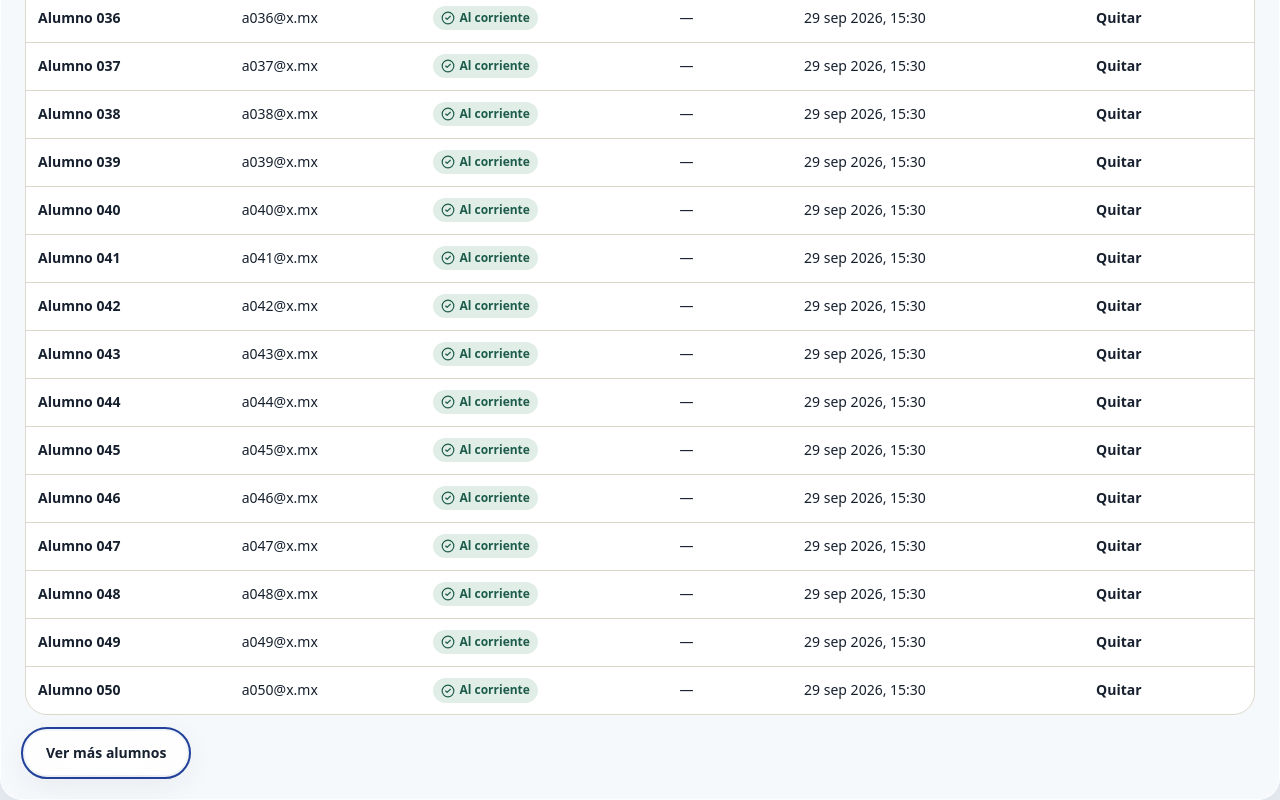
ataque CLASES-b r5: T-27 y la primera carga › alumnos: si la página siguiente falla, el foco va exactamente al encabezado «Alumnos»
(page scrolled)
What coordinates should you click on to do the following:
click the button "Ver más alumnos"
I would click on:
 (106, 753)
Its box is [25,731,187,775].
(page scrolled)
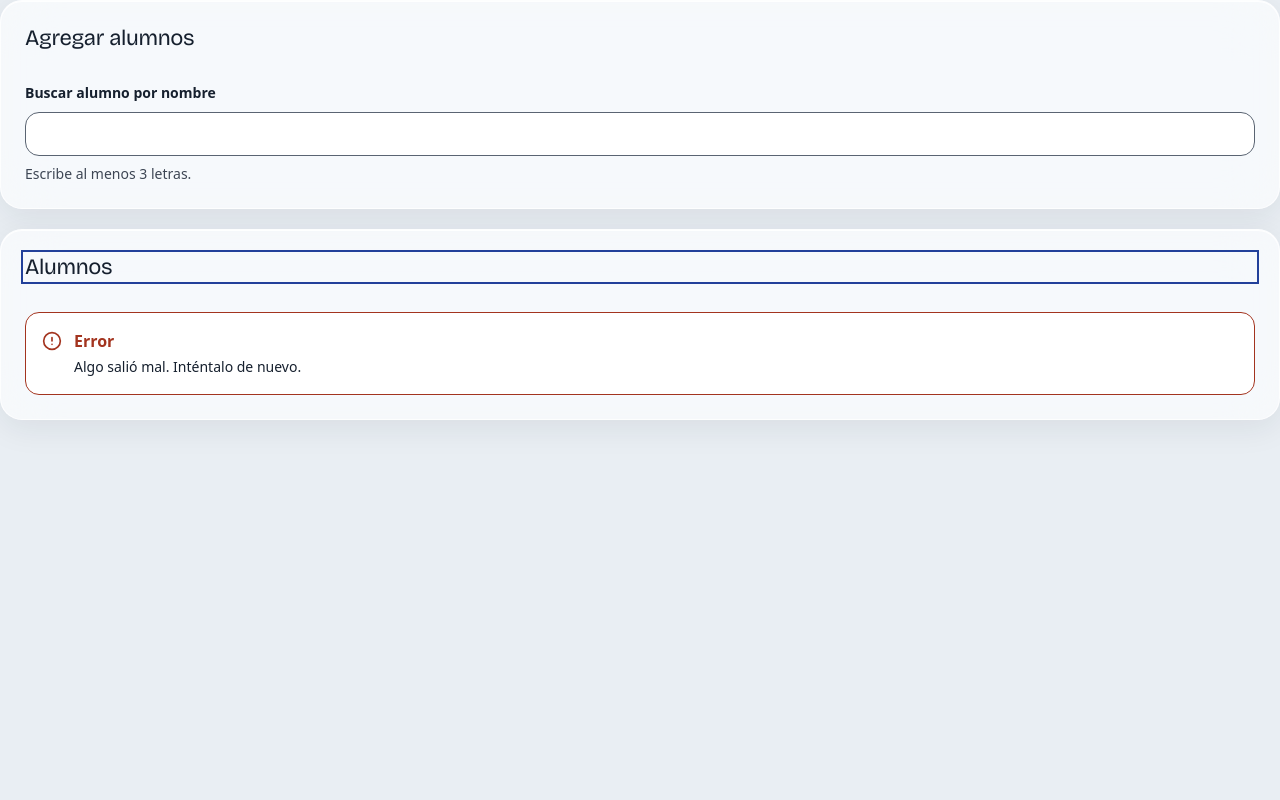
Expected: the message "Error Algo salió mal. Inténtalo de nuevo." is shown, [25,312,1255,395]
